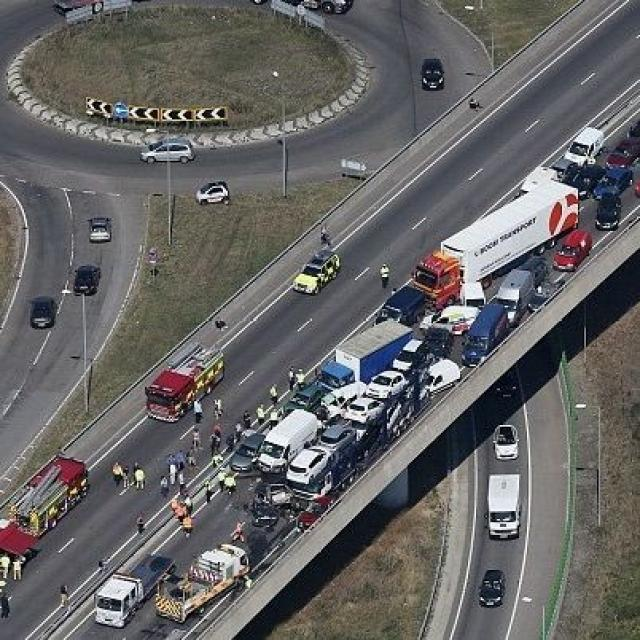traffic_incident: (368, 126, 614, 382)
